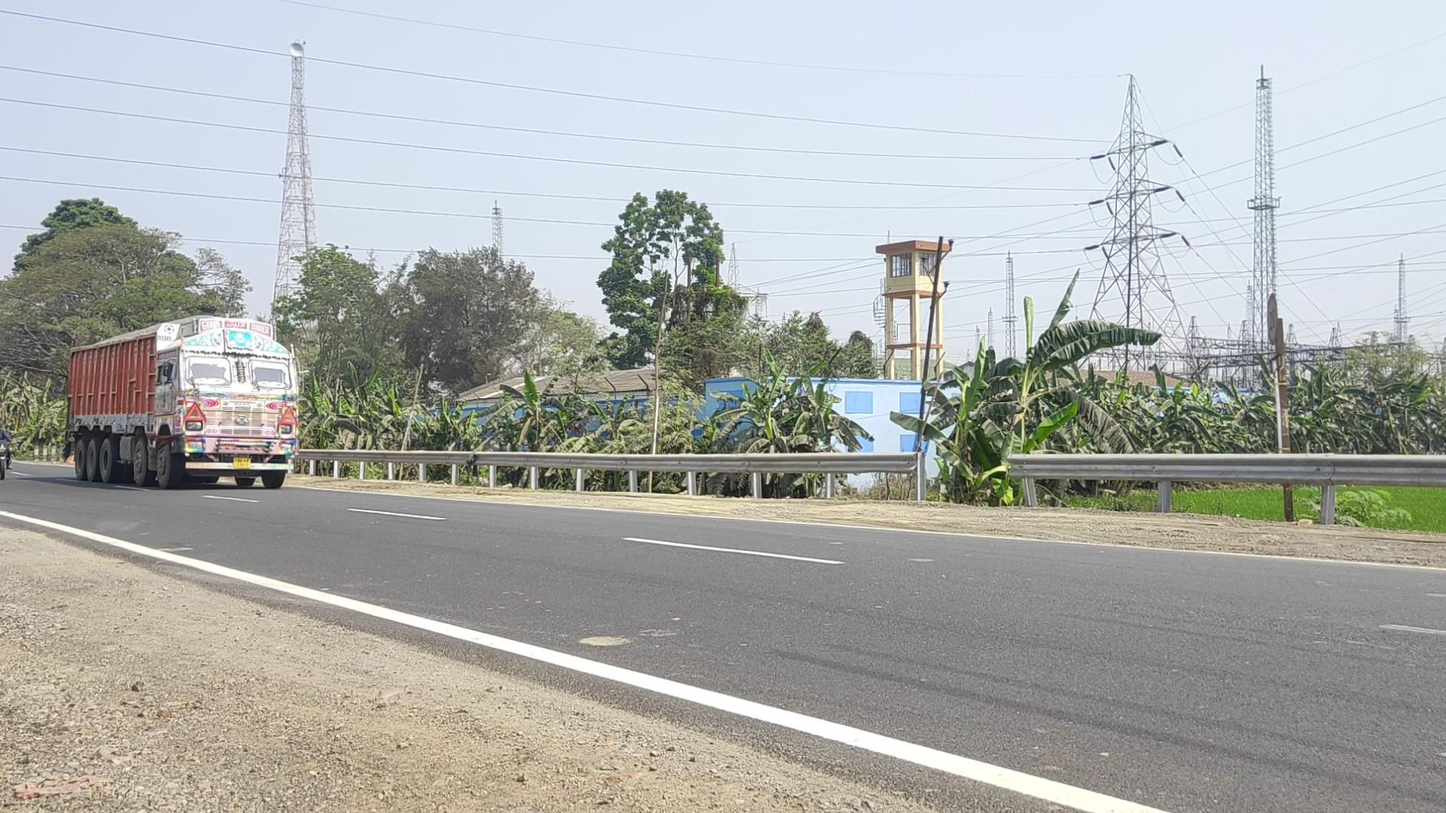truck: (66, 315, 301, 491)
